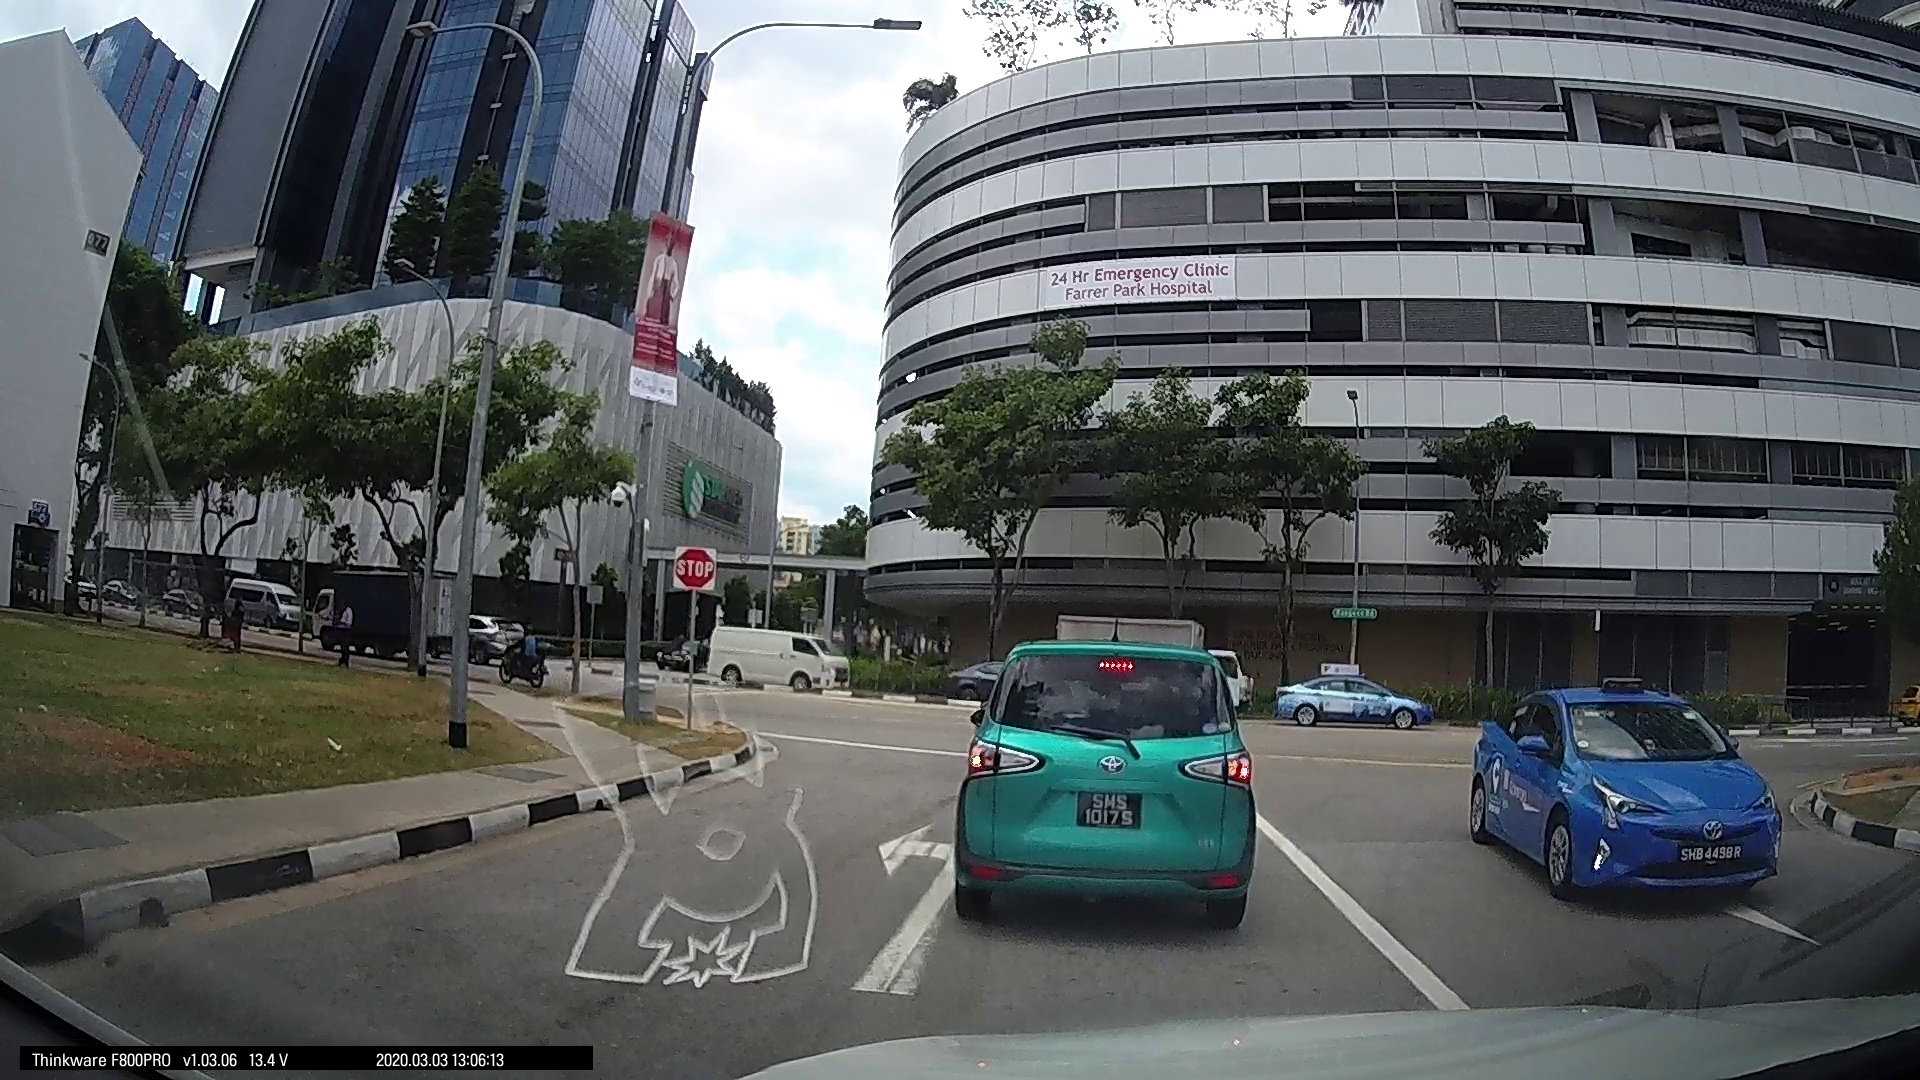Heavy Vehicle: (313, 566, 422, 658)
Light Vehicle: (944, 618, 1261, 934), (1464, 676, 1782, 909), (691, 620, 844, 692), (1270, 666, 1418, 727)
Motorcycle: (484, 612, 553, 690)
